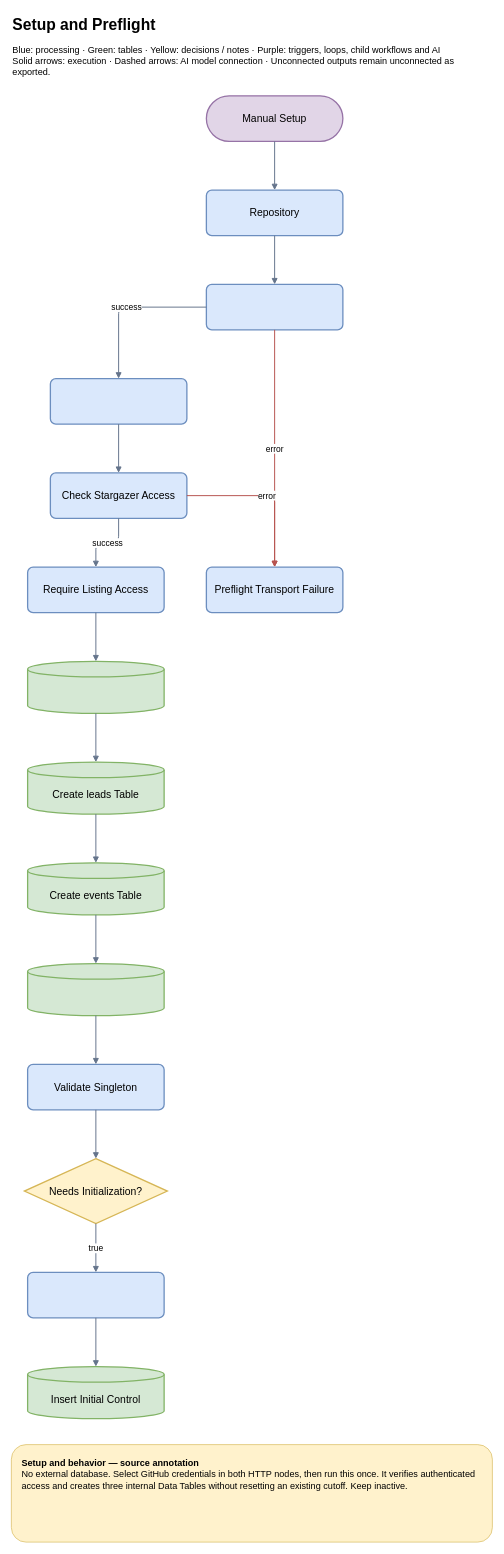
The diagram is 504 pixels wide and 1554 high, and some of its shapes have lost their labels. The centre of each missing label's shape, as x and y in pixels:
"Check Repository" goes at (274,306).
"Create control Table" goes at (95,687).
"Find Existing Control" goes at (95,989).
"Initialize Monitoring" goes at (95,1294).
"Validate Repository" goes at (118,401).
